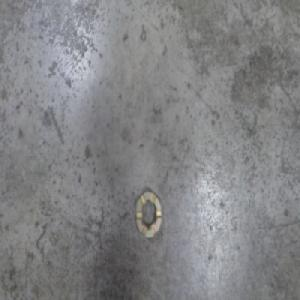Nut: (134, 185, 163, 241)
